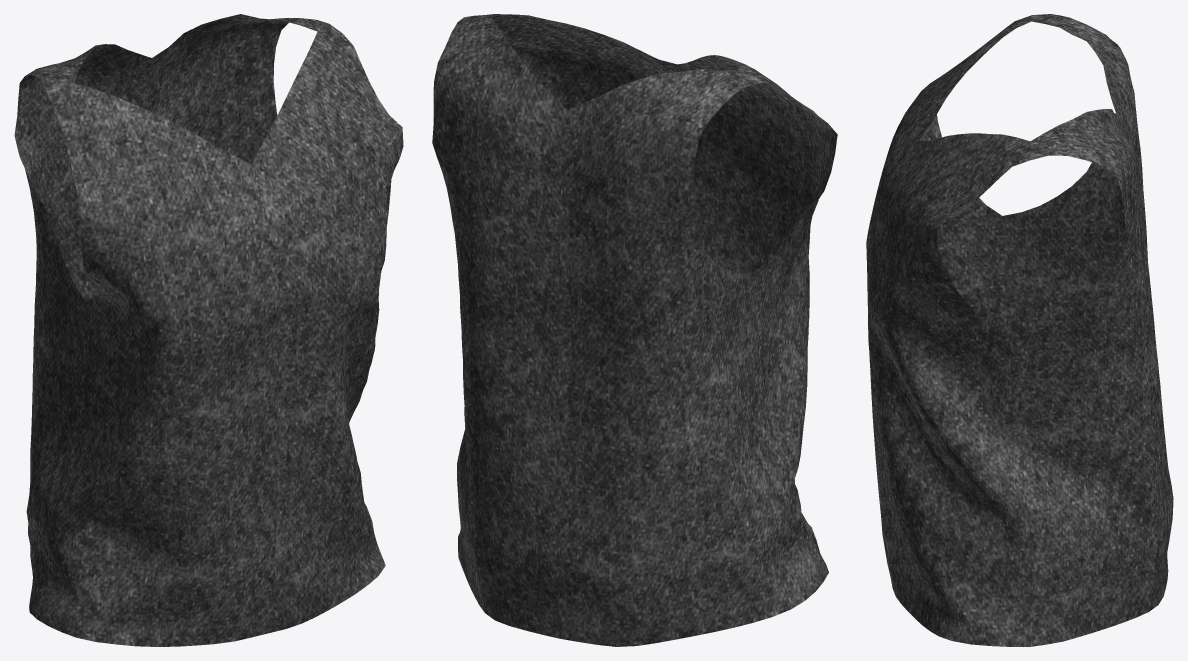
Rendered from osnova.glb.
3 views of the same model, side by side, from view 1: azimuth 30°, elevation 25°; view 2: azimuth 150°, elevation 25°; view 3: azimuth 270°, elevation 25° (orthographic). The views are drawn at different scales.
Parts seen in each view (by area): view 1: Pattern2D_67105, Pattern2D_67100.001, Pattern2D_67102, Pattern2D_67101.001; view 2: Pattern2D_67102, Pattern2D_67101.001, Pattern2D_67105, Pattern2D_67100.001; view 3: Pattern2D_67100.001, Pattern2D_67101.001, Pattern2D_67102, Pattern2D_67105.
Boxes of the visible parts, box(x1,y1,x2,y2) form: Pattern2D_67105: box(37, 83, 279, 646); Pattern2D_67100.001: box(252, 31, 403, 632); Pattern2D_67102: box(14, 44, 151, 618); Pattern2D_67101.001: box(143, 14, 341, 164); Pattern2D_67102: box(554, 69, 804, 646); Pattern2D_67101.001: box(432, 15, 567, 638); Pattern2D_67105: box(677, 55, 837, 600); Pattern2D_67100.001: box(465, 14, 703, 222); Pattern2D_67100.001: box(867, 133, 1030, 646); Pattern2D_67101.001: box(1009, 109, 1173, 646); Pattern2D_67102: box(1002, 14, 1147, 339); Pattern2D_67105: box(866, 15, 1031, 542).
Size of the model in its own units: 0.3696 by 0.5704 by 0.3117.
1 material, 1 textured.
